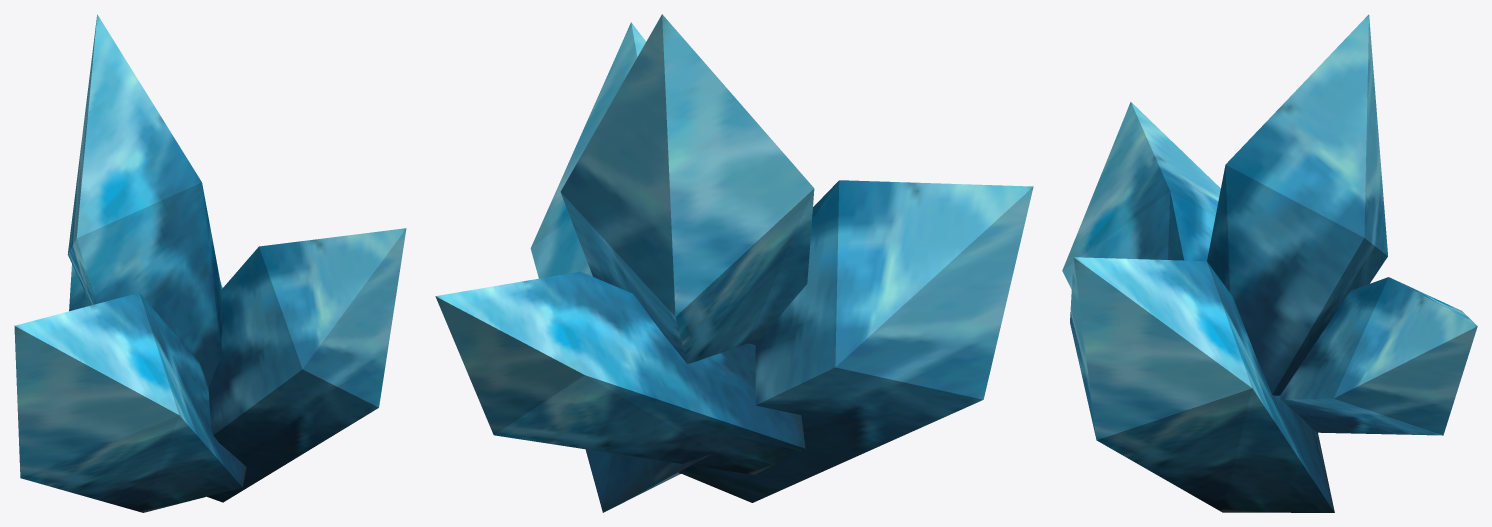
File: mine_ember_ore03.fbx
3 renders of one model, left to right at view 1: azimuth 30°, elevation 25°; view 2: azimuth 150°, elevation 25°; view 3: azimuth 270°, elevation 25°, orthographic. The views are drawn at different scales.
Parts seen in each view (by area): view 1: obj0.022; view 2: obj0.022; view 3: obj0.022.
Boxes of the visible parts, <box> form: obj0.022: <box>14,14,406,512</box>; obj0.022: <box>435,14,1033,512</box>; obj0.022: <box>1062,14,1477,512</box>.
Bounding box in the file's own units: 0.6286 × 0.7426 × 0.5947.
